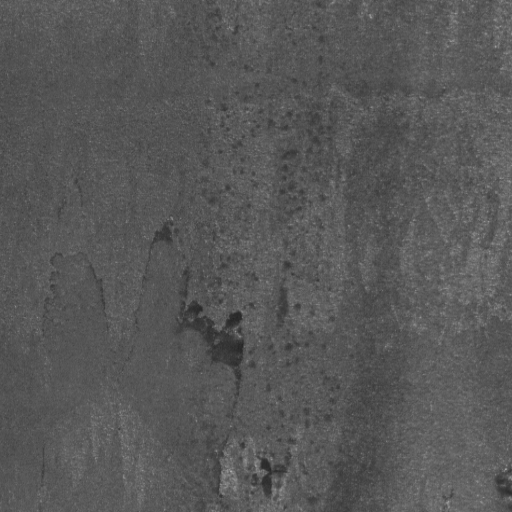aokeng: (171, 294, 255, 385)
